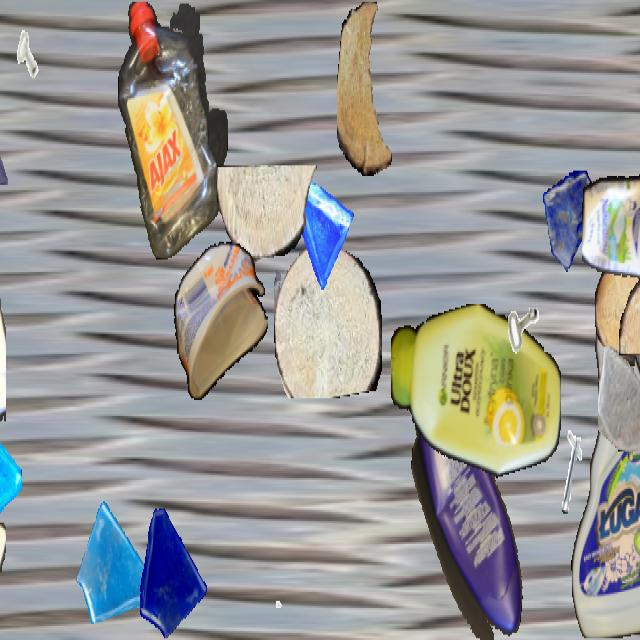glass: (76, 496, 156, 638), (131, 500, 209, 638), (284, 167, 354, 292), (543, 171, 599, 270), (598, 346, 640, 449), (0, 400, 22, 567), (0, 68, 12, 192)
metal: (487, 254, 547, 361), (547, 430, 603, 530), (9, 21, 47, 89), (251, 553, 289, 620)
plastic: (391, 304, 561, 482), (408, 386, 528, 638), (117, 2, 227, 258), (571, 301, 640, 638), (174, 242, 268, 402), (582, 164, 640, 278), (0, 172, 6, 428), (633, 213, 640, 423), (0, 439, 6, 638)
wood: (274, 242, 382, 398), (337, 2, 397, 176), (217, 166, 317, 262), (595, 260, 640, 366), (619, 266, 640, 356)
